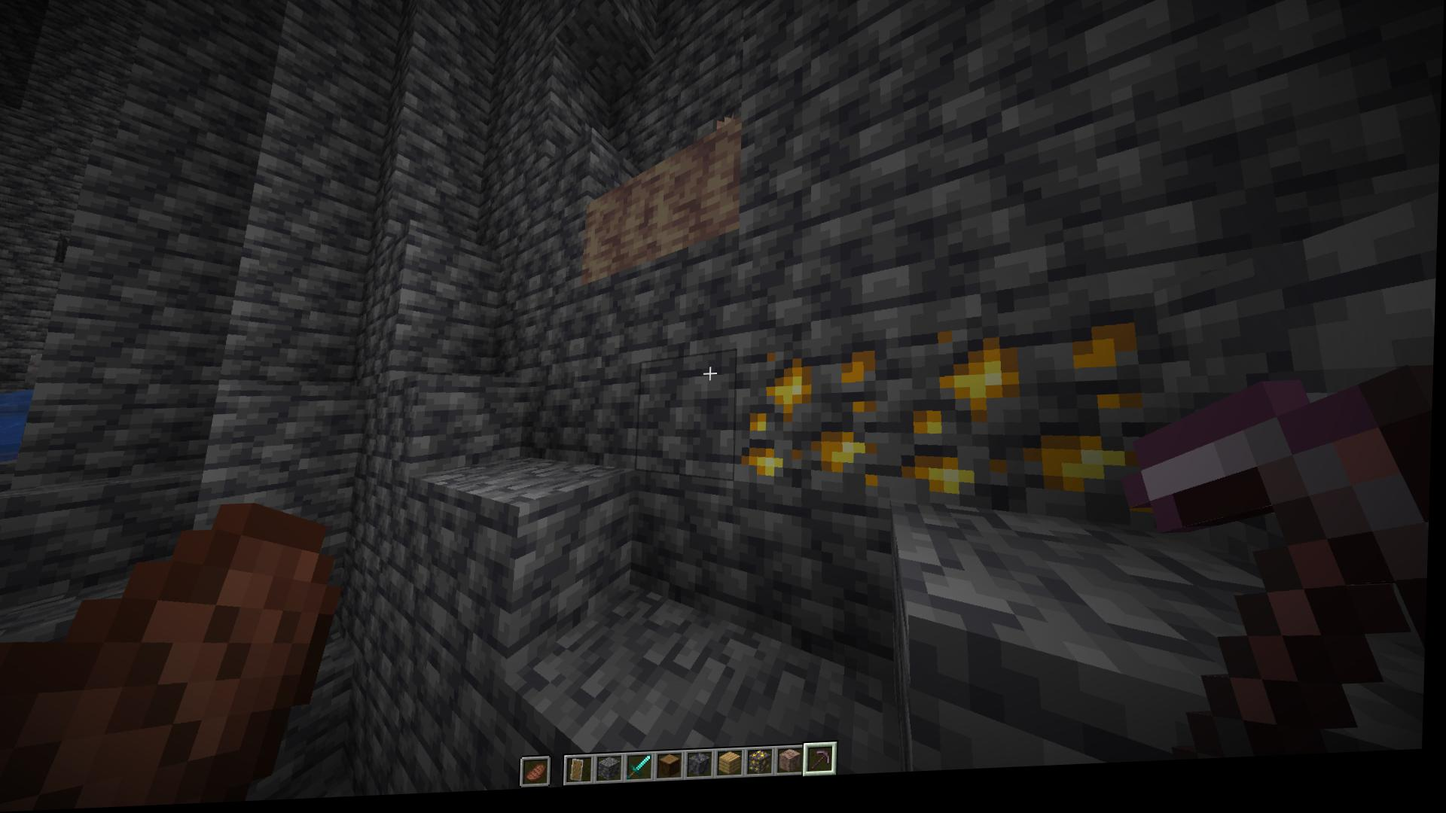gold ore: (887, 324, 1142, 522), (740, 344, 892, 506)
